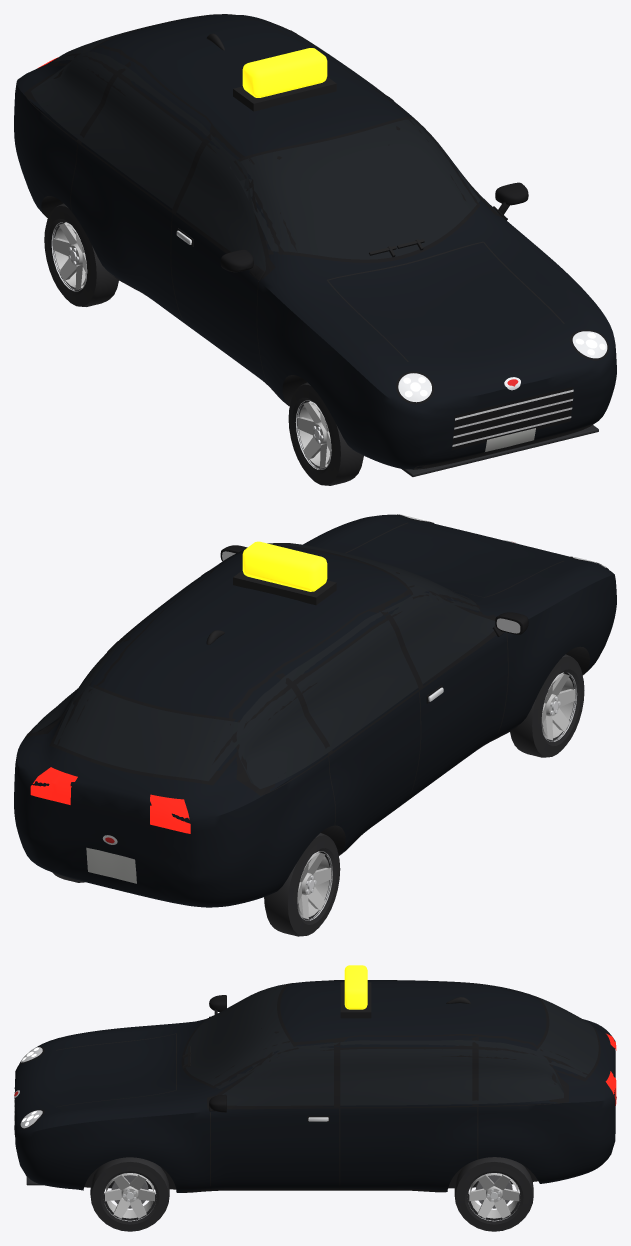
Rendered from tr_taxi.glb.
3 views of the same model, one above another, from view 1: azimuth 30°, elevation 25°; view 2: azimuth 150°, elevation 25°; view 3: azimuth 270°, elevation 25° (orthographic). The views are drawn at different scales.
Visible parts, largest first — view 1: Body, Wheel_FR, Wheel_RR; view 2: Body, Wheel_RR, Wheel_FR; view 3: Body, Wheel_RL, Wheel_FL.
Boxes of the visible parts, x1=… form: Body: x1=14, y1=14, x2=616, y2=476; Wheel_FR: x1=288, y1=382, x2=363, y2=485; Wheel_RR: x1=44, y1=203, x2=118, y2=306; Body: x1=14, y1=514, x2=616, y2=907; Wheel_RR: x1=264, y1=833, x2=340, y2=936; Wheel_FR: x1=510, y1=654, x2=584, y2=757; Body: x1=14, y1=965, x2=616, y2=1192; Wheel_RL: x1=454, y1=1157, x2=533, y2=1231; Wheel_FL: x1=90, y1=1157, x2=169, y2=1231.
Bounding box in the file's own units: 2.04 × 1.83 × 4.72.
